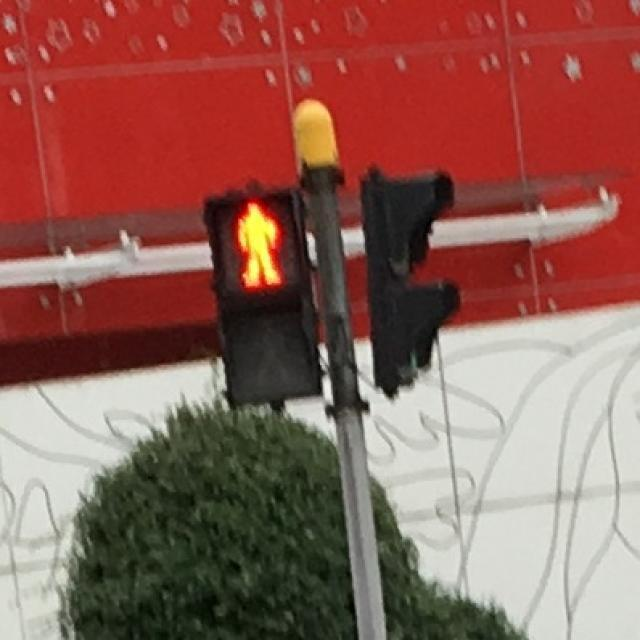red-crossing: (218, 199, 292, 286)
